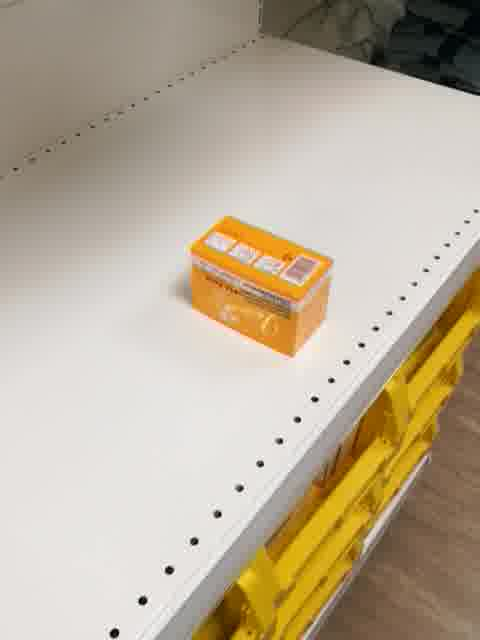jasminetea: (186, 216, 334, 359)
